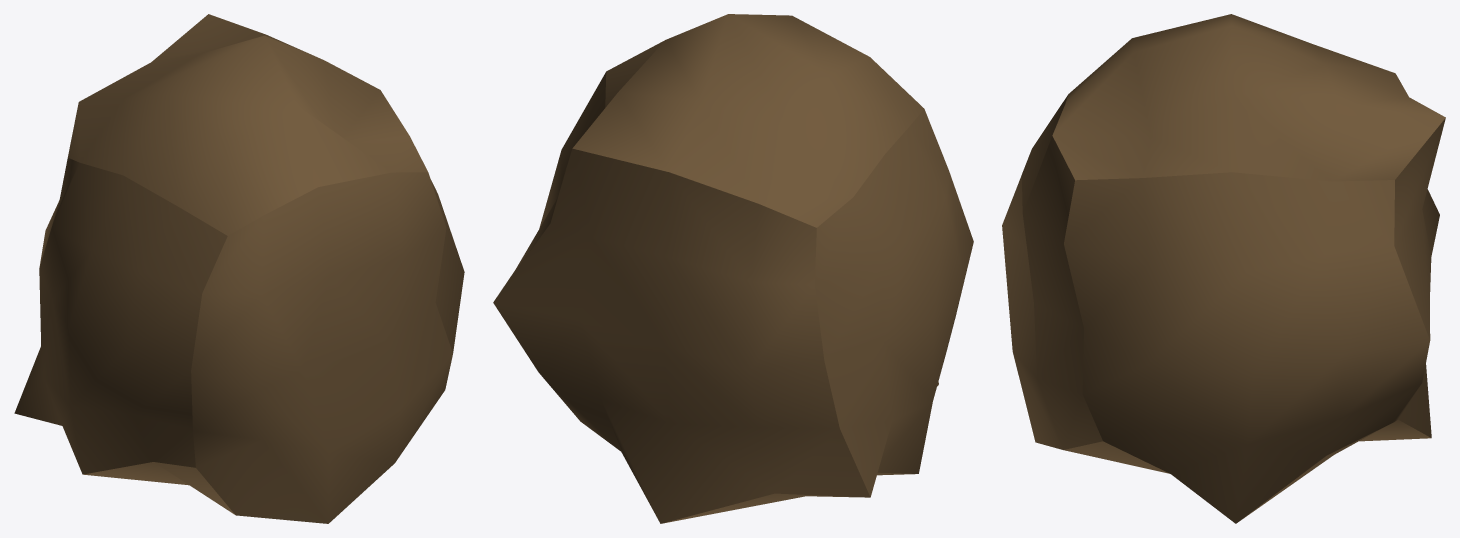
Rendered from Asteroid.fbx.
The picture shows the model from 3 angles, left to right: view 1: azimuth 30°, elevation 25°; view 2: azimuth 150°, elevation 25°; view 3: azimuth 270°, elevation 25°; orthographic projection. The views are drawn at different scales.
Parts seen in each view (by area): view 1: Asteroid; view 2: Asteroid; view 3: Asteroid.
Part boxes in pixels (box(x1,y1,x2,y2)): Asteroid: box(14, 14, 464, 523); Asteroid: box(493, 14, 973, 523); Asteroid: box(1002, 14, 1445, 523).
Bounding box in the file's own units: 2227 × 2382 × 2221.
